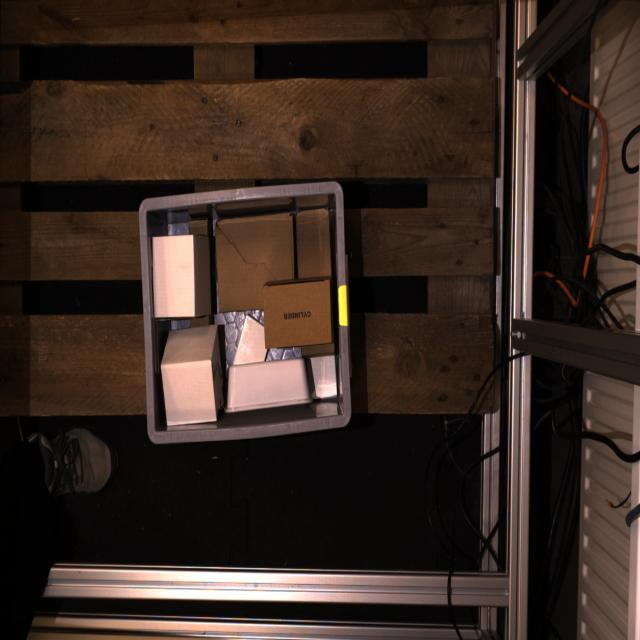CardboardBox: (215, 214, 294, 313), (159, 324, 223, 425), (264, 276, 332, 348), (152, 235, 211, 317), (296, 209, 331, 278), (232, 314, 268, 365), (307, 356, 338, 398), (188, 218, 209, 239), (188, 315, 213, 327)
PlasticContainer: (224, 360, 314, 413)
